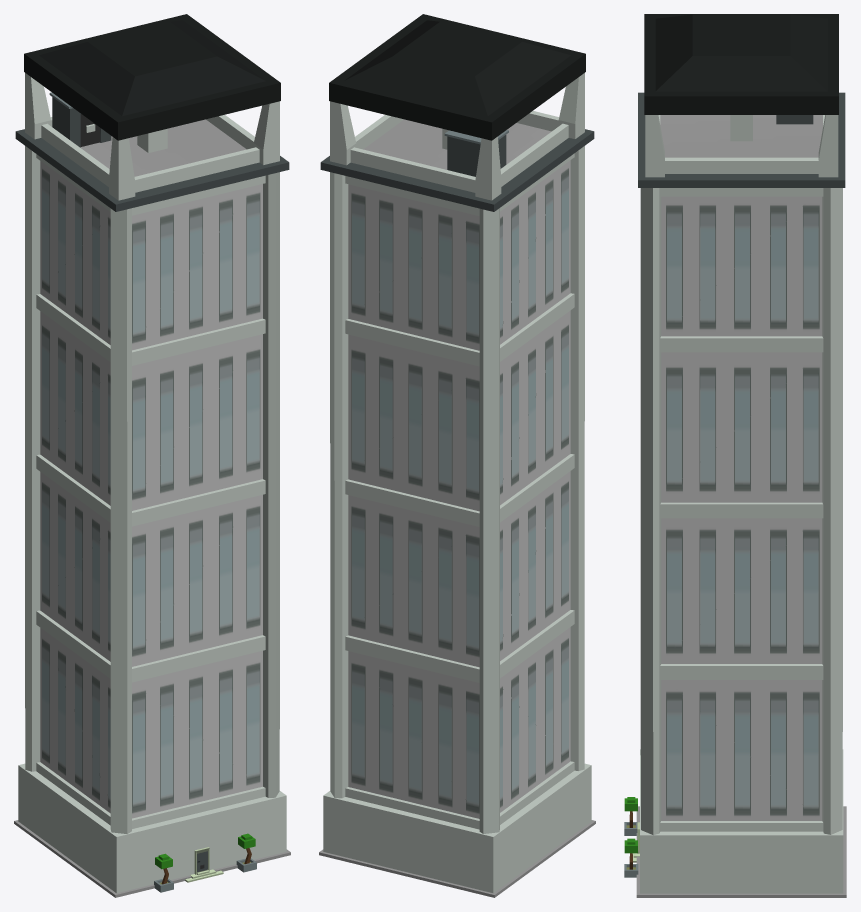
Rendered from Sky Scraper Pilars.fbx.
3 renders of one model, left to right at view 1: azimuth 30°, elevation 25°; view 2: azimuth 150°, elevation 25°; view 3: azimuth 270°, elevation 25°, orthographic. The views are drawn at different scales.
Visible parts, largest first — view 1: Sky Scraper Pilars; view 2: Sky Scraper Pilars; view 3: Sky Scraper Pilars.
Boxes of the visible parts, bbox=[...] form: Sky Scraper Pilars: bbox=[14, 14, 290, 897]; Sky Scraper Pilars: bbox=[319, 14, 595, 897]; Sky Scraper Pilars: bbox=[624, 14, 846, 897].
Size of the model in its own units: 6.16 by 26.48 by 6.52.
